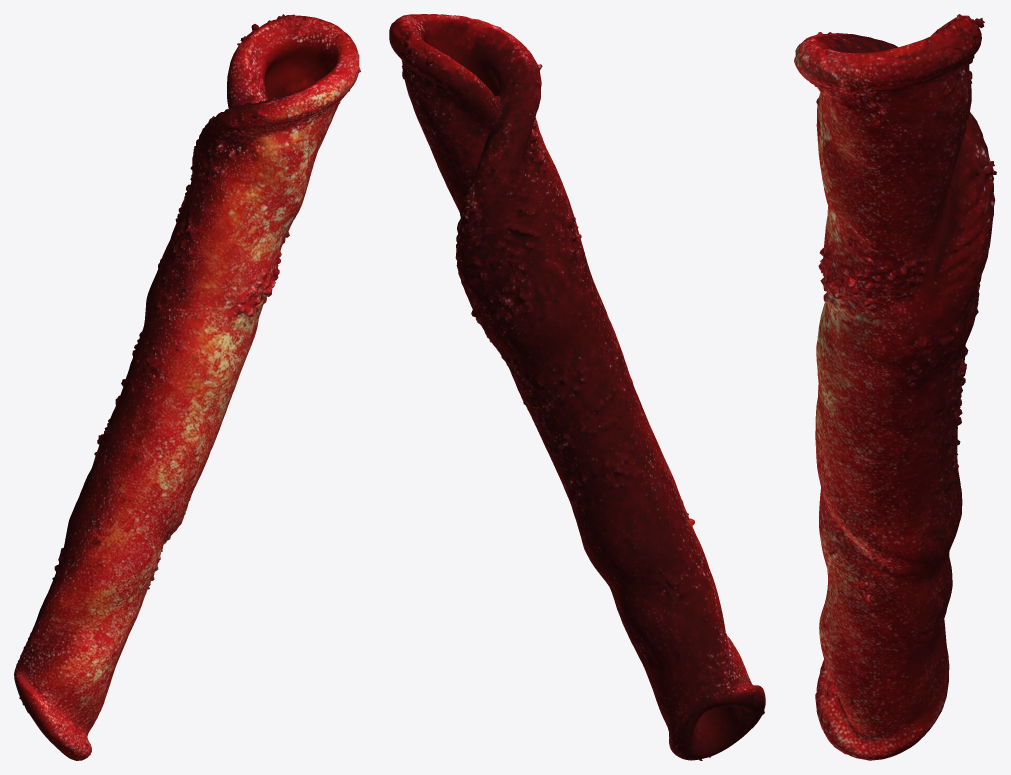
File: taki.glb
3 views of the same model, side by side, from view 1: azimuth 30°, elevation 25°; view 2: azimuth 150°, elevation 25°; view 3: azimuth 270°, elevation 25° (orthographic). The views are drawn at different scales.
Visible parts, largest first — view 1: geometry_0; view 2: geometry_0; view 3: geometry_0.
Boxes of the visible parts, x1,y1,x2,y2 form: geometry_0: (14, 14, 360, 760); geometry_0: (389, 14, 765, 760); geometry_0: (794, 14, 996, 760).
Size of the model in its own units: 0.5277 by 0.9814 by 0.2002.
Materials: 1 (1 with a texture image).
